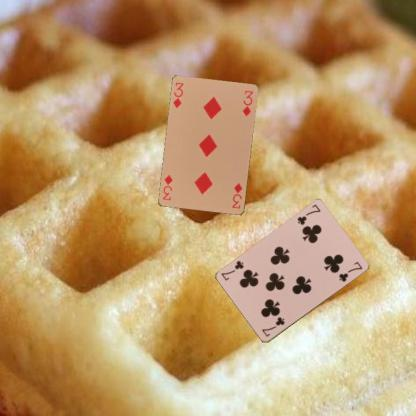3d: (170, 80, 185, 109), (230, 181, 244, 210)
7c: (294, 201, 322, 226), (259, 314, 286, 338)
